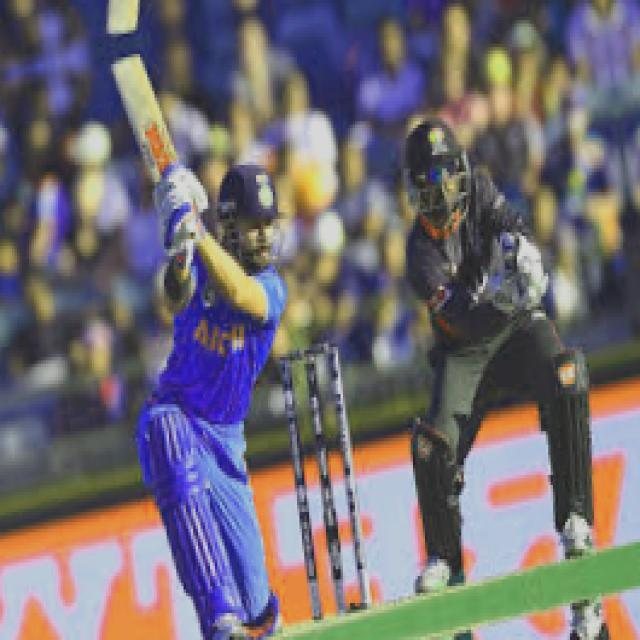bat: (109, 54, 188, 173)
toe: (109, 51, 145, 66)
